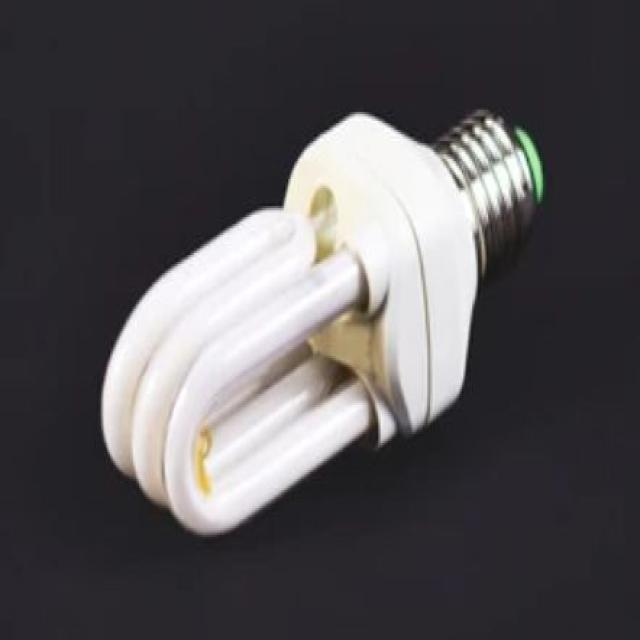electronic: (98, 103, 544, 537)
